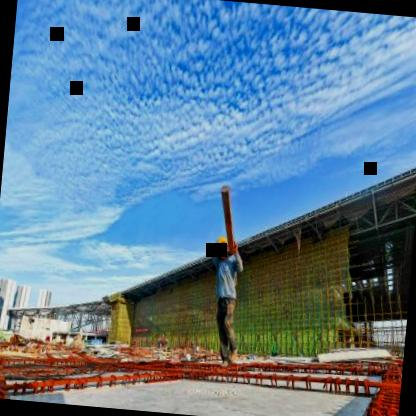helmet: (214, 235, 231, 260)
